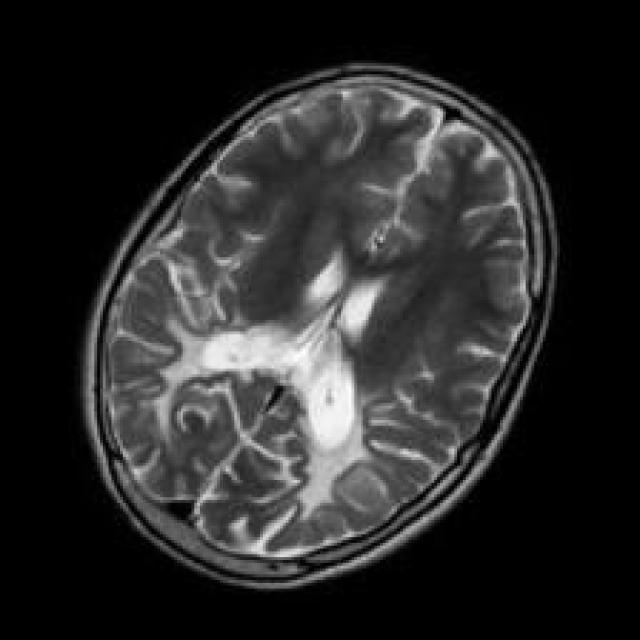no_tumor: (83, 59, 563, 597)
